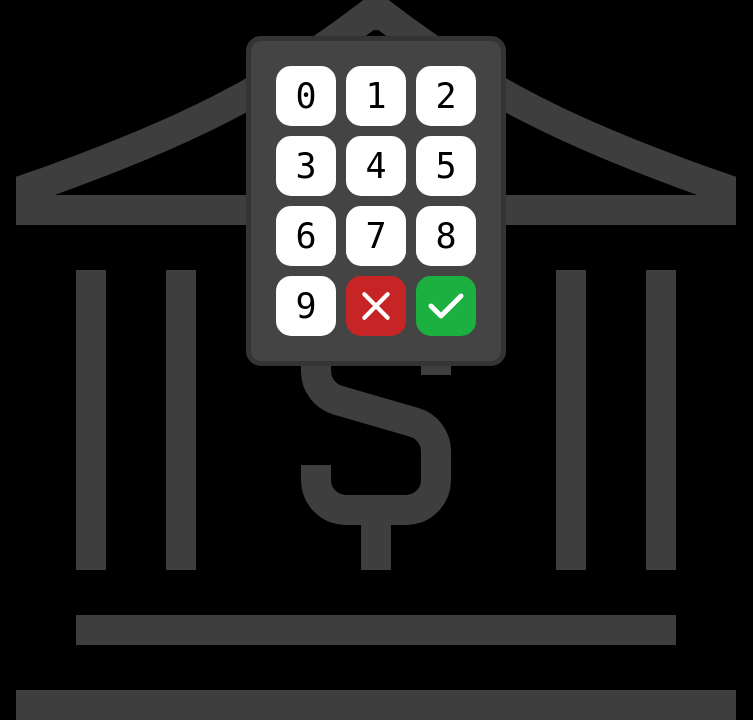
Test: Keyboard Component › al hacer clic en un número se actualiza el valor
Click the button with test id "keyboard-1" at [376, 96], box [346,66,406,126]
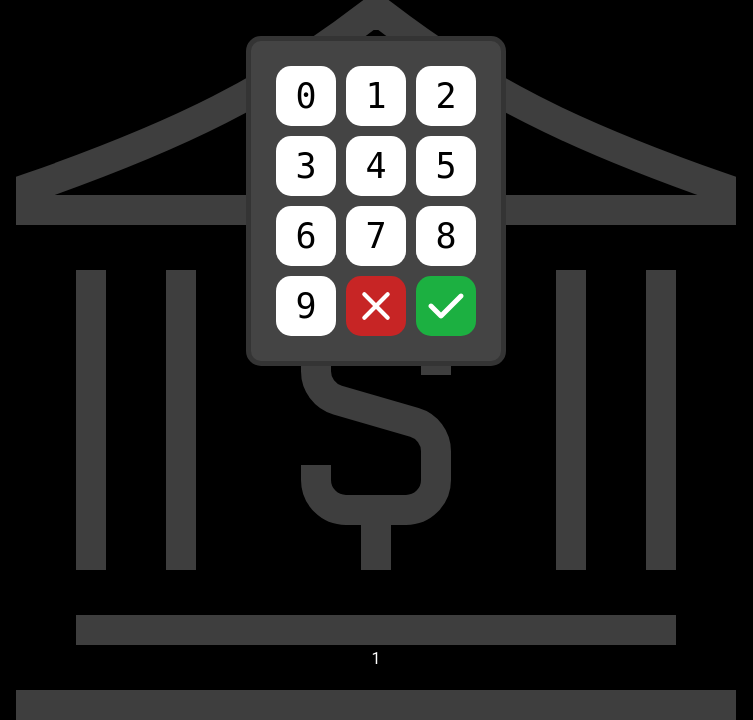
Expected: the text with test id "value" reads "1", [372,649,380,668]
Click the button with test id "keyboard-2" at [446, 96], box [416,66,476,126]
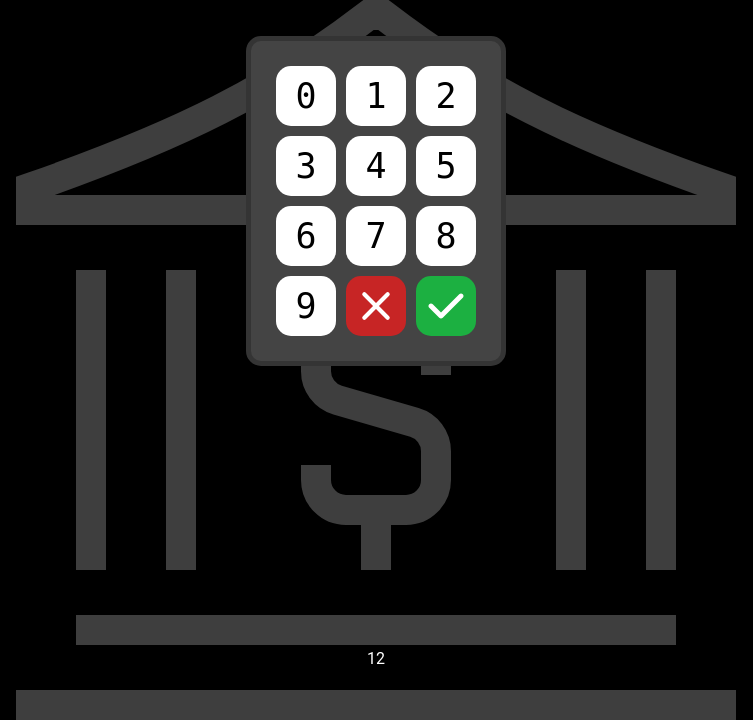
Expected: the text with test id "value" reads "12", [367,649,385,668]
